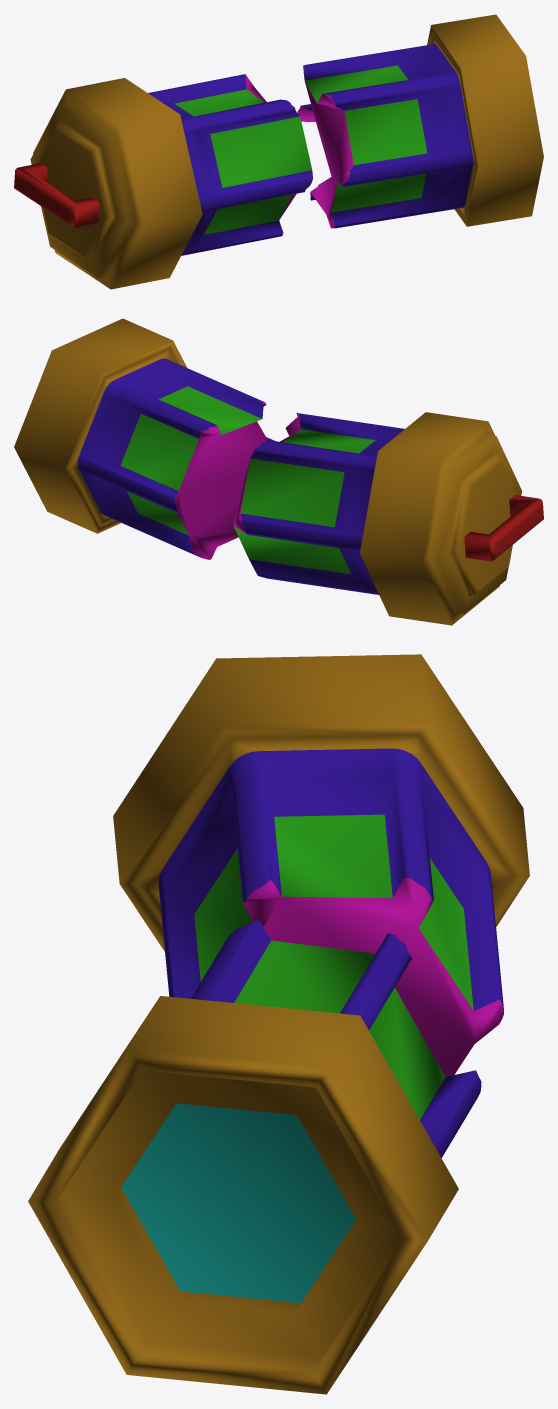
The model's file is BrokenCell_Final.fbx.
The picture shows the model from 3 angles, top to bottom: view 1: azimuth 30°, elevation 25°; view 2: azimuth 150°, elevation 25°; view 3: azimuth 270°, elevation 25°; orthographic projection. The views are drawn at different scales.
Visible parts, largest first — view 1: BrokenCell_Lowpoly; view 2: BrokenCell_Lowpoly; view 3: BrokenCell_Lowpoly.
Part boxes in pixels (x1,y1,x2,y2): BrokenCell_Lowpoly: [14, 14, 543, 289]; BrokenCell_Lowpoly: [14, 318, 543, 625]; BrokenCell_Lowpoly: [28, 654, 529, 1394].
Bounding box in the file's own units: 1.71 × 0.5903 × 0.7856.
